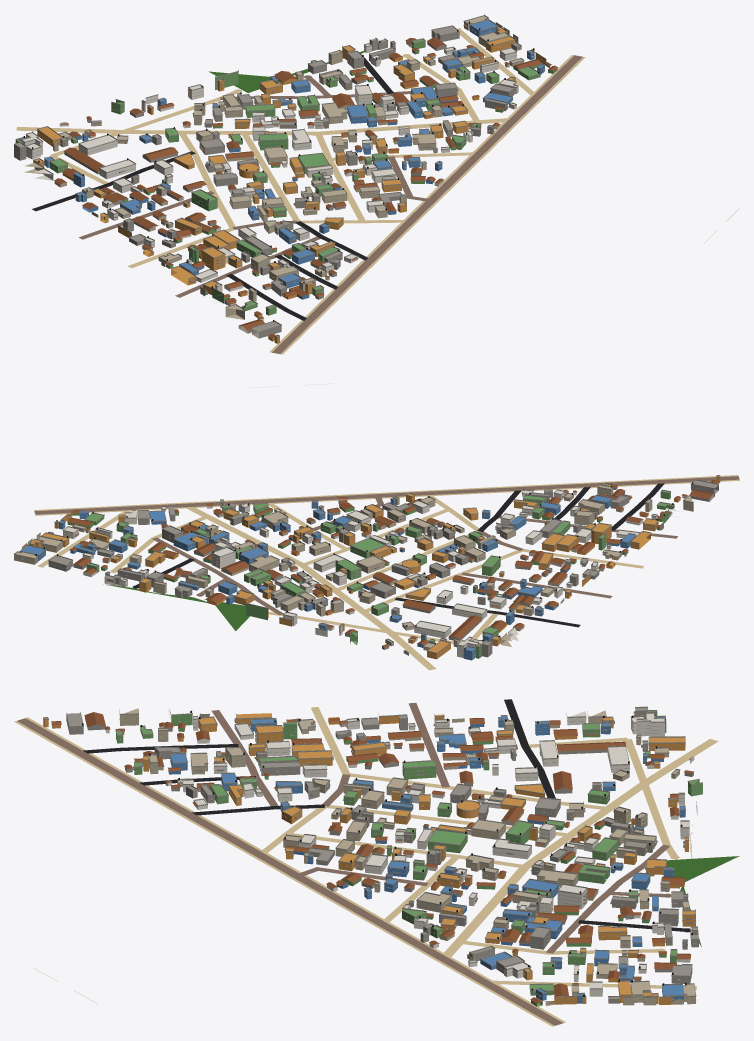
The model's file is zone_t-1_1.glb.
The picture shows the model from 3 angles, top to bottom: view 1: azimuth 30°, elevation 25°; view 2: azimuth 150°, elevation 25°; view 3: azimuth 270°, elevation 25°; orthographic projection. The views are drawn at different scales.
Parts seen in each view (by area): view 1: parapet_t-1_1, bld_peinture_ecaillee_t-1_1-col, bld_peinture_ocre_t-1_1-col, bld_peinture_blanc_t-1_1-col, bld_beton_t-1_1-col, toit_tole_t-1_1, bld_peinture_vert_t-1_1-col, bld_peinture_bleu_t-1_1-col, route_residential_terre_t-1_1, route_tertiary_paves_t-1_1, bandeau_t-1_1, accotement_t-1_1 (+3 smaller); view 2: parapet_t-1_1, bld_peinture_ecaillee_t-1_1-col, bld_peinture_ocre_t-1_1-col, toit_tole_t-1_1, bld_peinture_blanc_t-1_1-col, bld_beton_t-1_1-col, bld_peinture_vert_t-1_1-col, bld_peinture_bleu_t-1_1-col, route_residential_terre_t-1_1, route_tertiary_paves_t-1_1, accotement_t-1_1, bandeau_t-1_1 (+4 smaller); view 3: parapet_t-1_1, bld_peinture_ecaillee_t-1_1-col, bld_peinture_ocre_t-1_1-col, bld_peinture_blanc_t-1_1-col, toit_tole_t-1_1, bld_beton_t-1_1-col, bld_peinture_vert_t-1_1-col, bld_peinture_bleu_t-1_1-col, route_residential_terre_t-1_1, route_tertiary_paves_t-1_1, route_residential_paves_t-1_1, bandeau_t-1_1 (+6 smaller).
Part boxes in pixels (x1,y1,x2,y2): parapet_t-1_1: [14, 15, 546, 337]; bld_peinture_ecaillee_t-1_1-col: [24, 16, 552, 319]; bld_peinture_ocre_t-1_1-col: [33, 23, 546, 343]; bld_peinture_blanc_t-1_1-col: [22, 41, 518, 320]; bld_beton_t-1_1-col: [14, 26, 521, 338]; toit_tole_t-1_1: [54, 38, 557, 338]; bld_peinture_vert_t-1_1-col: [15, 39, 557, 315]; bld_peinture_bleu_t-1_1-col: [20, 20, 544, 299]; route_residential_terre_t-1_1: [50, 28, 535, 267]; route_tertiary_paves_t-1_1: [272, 55, 582, 353]; bandeau_t-1_1: [14, 25, 545, 340]; accotement_t-1_1: [269, 55, 585, 354]; parapet_t-1_1: [14, 475, 720, 653]; bld_peinture_ecaillee_t-1_1-col: [14, 485, 693, 650]; bld_peinture_ocre_t-1_1-col: [22, 476, 720, 659]; toit_tole_t-1_1: [67, 480, 718, 647]; bld_peinture_blanc_t-1_1-col: [63, 490, 687, 657]; bld_beton_t-1_1-col: [48, 480, 718, 657]; bld_peinture_vert_t-1_1-col: [67, 483, 674, 658]; bld_peinture_bleu_t-1_1-col: [20, 492, 635, 660]; route_residential_terre_t-1_1: [37, 495, 643, 643]; route_tertiary_paves_t-1_1: [34, 476, 739, 514]; accotement_t-1_1: [34, 475, 739, 515]; bandeau_t-1_1: [14, 480, 719, 657]; parapet_t-1_1: [43, 706, 702, 1000]; bld_peinture_ecaillee_t-1_1-col: [120, 708, 695, 1006]; bld_peinture_ocre_t-1_1-col: [43, 713, 695, 1004]; bld_peinture_blanc_t-1_1-col: [105, 711, 697, 996]; toit_tole_t-1_1: [51, 712, 694, 1003]; bld_beton_t-1_1-col: [66, 708, 698, 1003]; bld_peinture_vert_t-1_1-col: [116, 711, 702, 1006]; bld_peinture_bleu_t-1_1-col: [142, 716, 685, 1003]; route_residential_terre_t-1_1: [261, 707, 696, 989]; route_tertiary_paves_t-1_1: [17, 718, 563, 1025]; route_residential_paves_t-1_1: [211, 702, 671, 953]; bandeau_t-1_1: [43, 711, 698, 1001].
Bounding box in the file's own units: 578 × 14 × 542.
